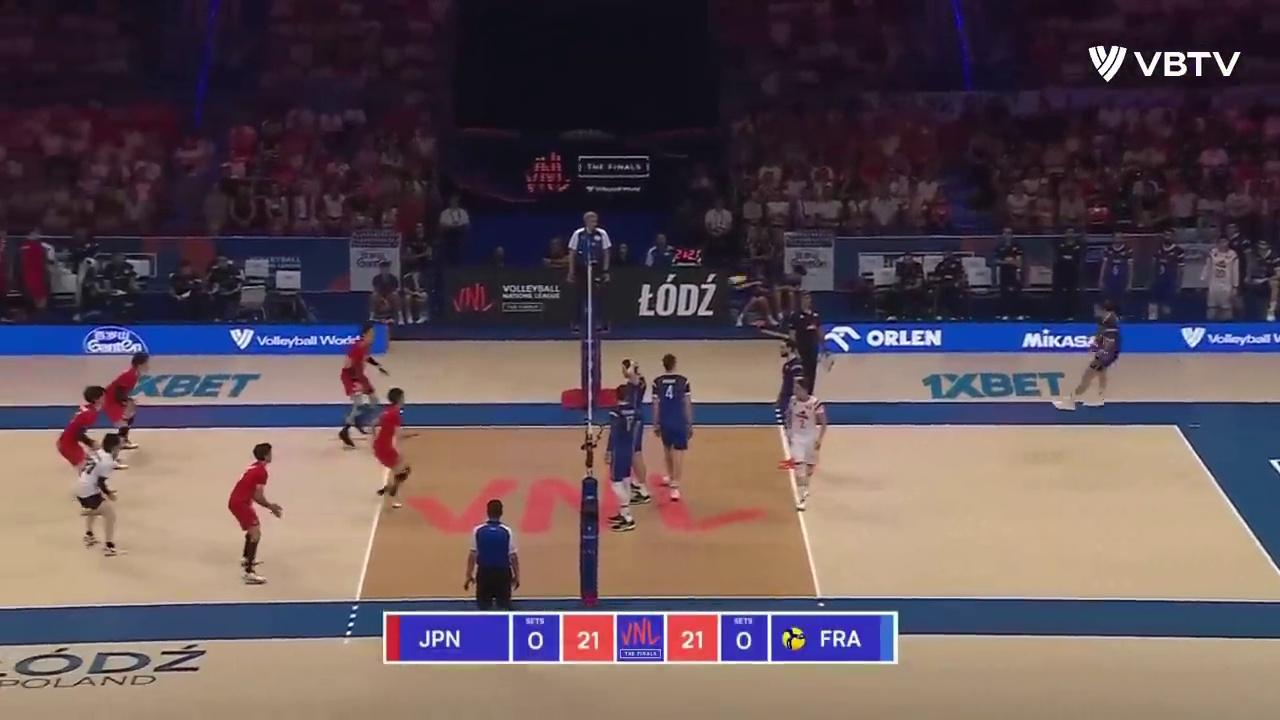ball: (728, 274, 748, 289)
